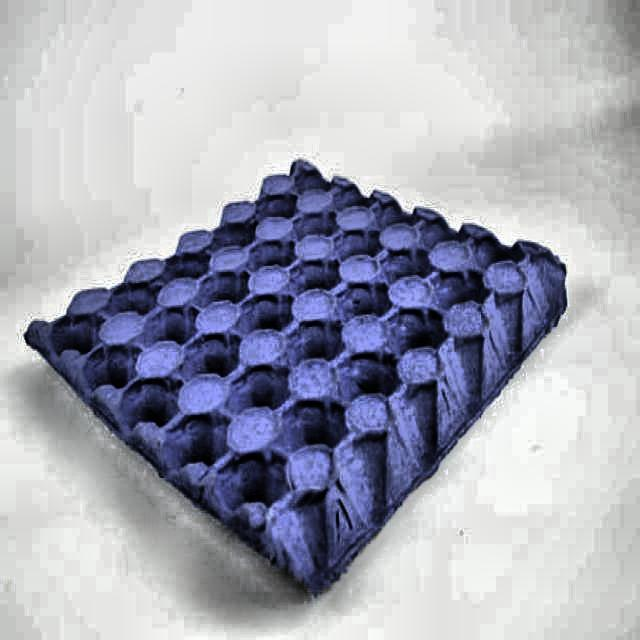cardboard: (23, 160, 569, 600)
